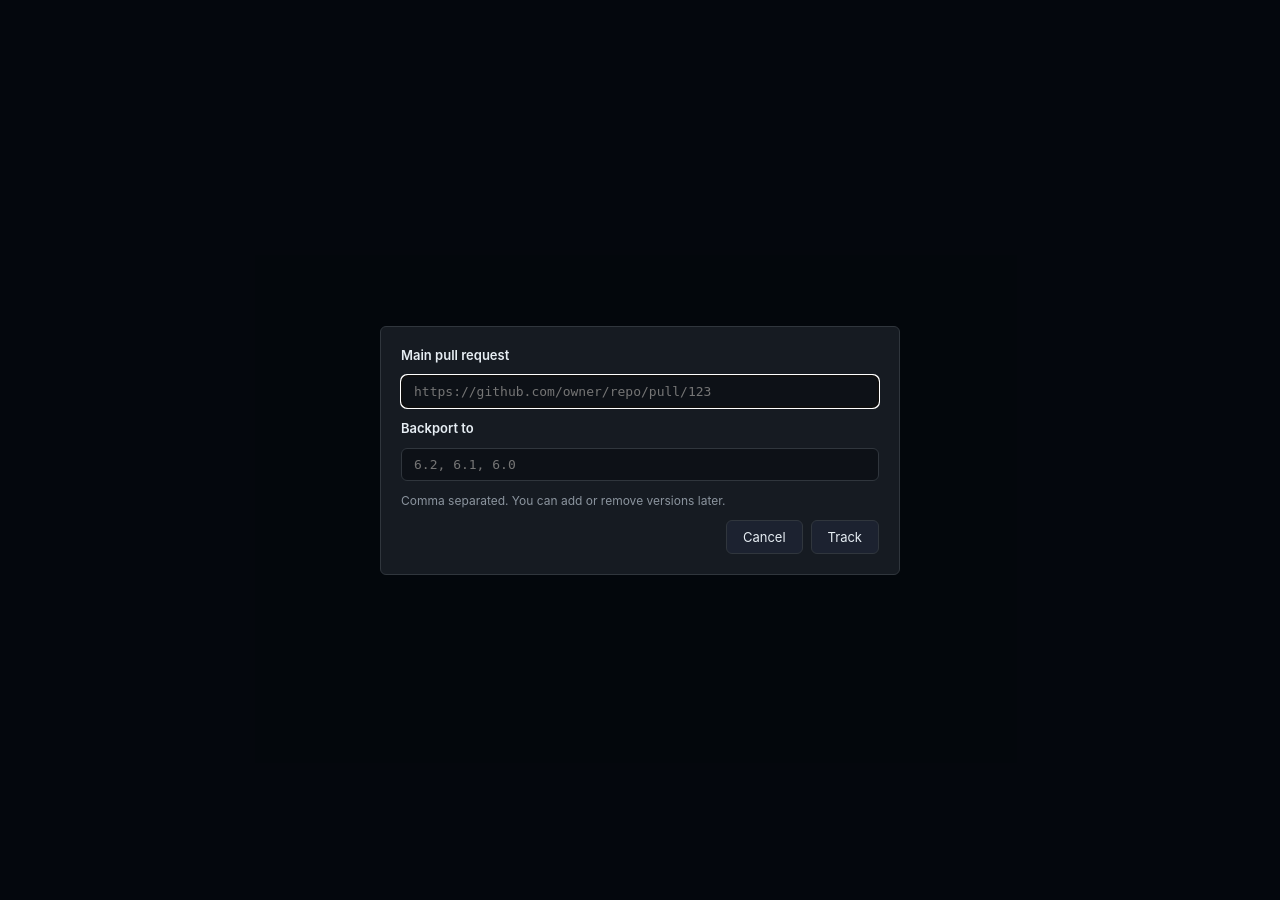
AddBackportGroupDialog › shows the parser error and does not add, for an invalid main PR URL
Type "https://gitlab.com/a/b/pull/1" into the field labelled "Main pull request".
click(640, 391); type("https://gitlab.com/a/b/pull/1")  # box x1=401 y1=374 x2=879 y2=408
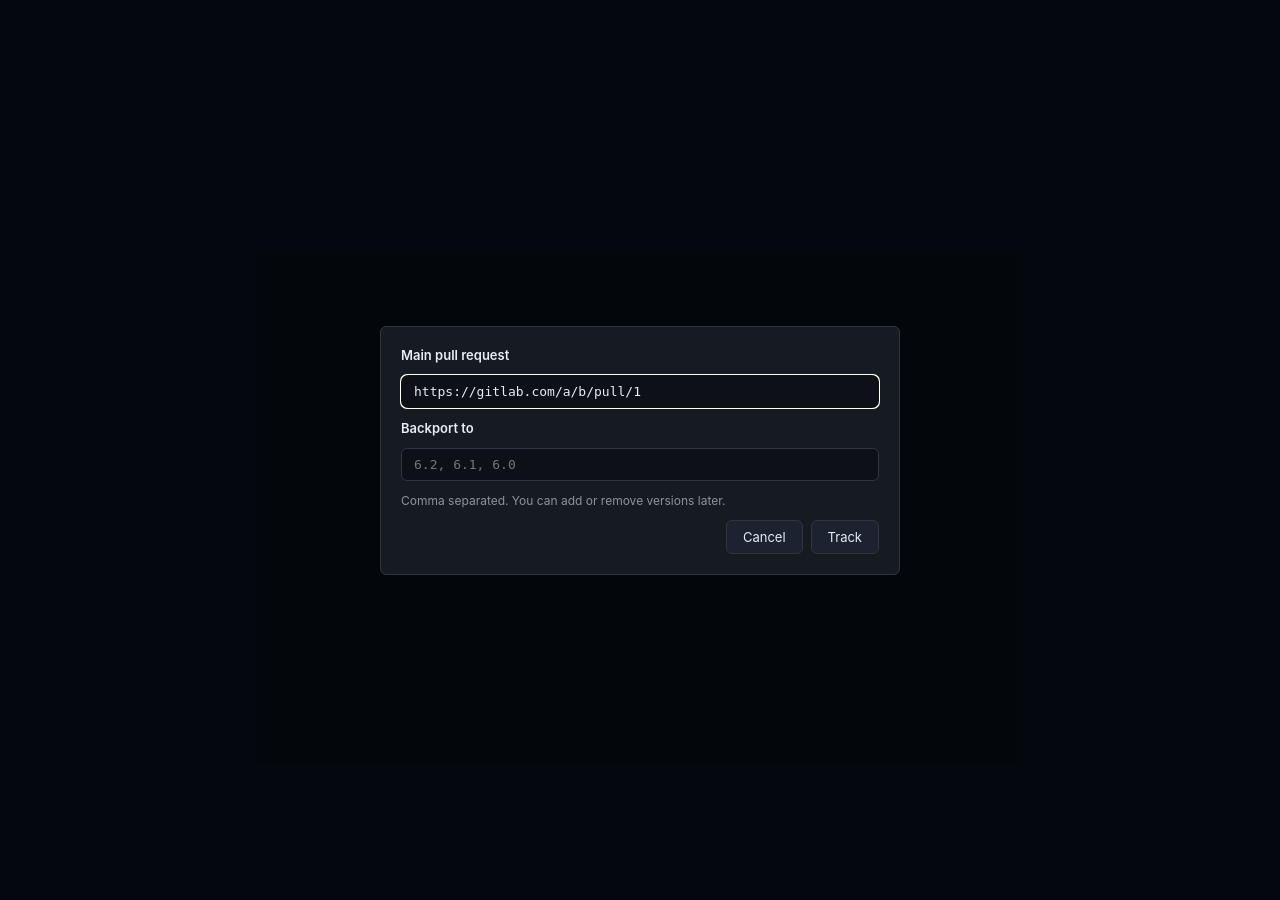
Click the button "Track".
click(845, 536)  # box x1=811 y1=520 x2=879 y2=554
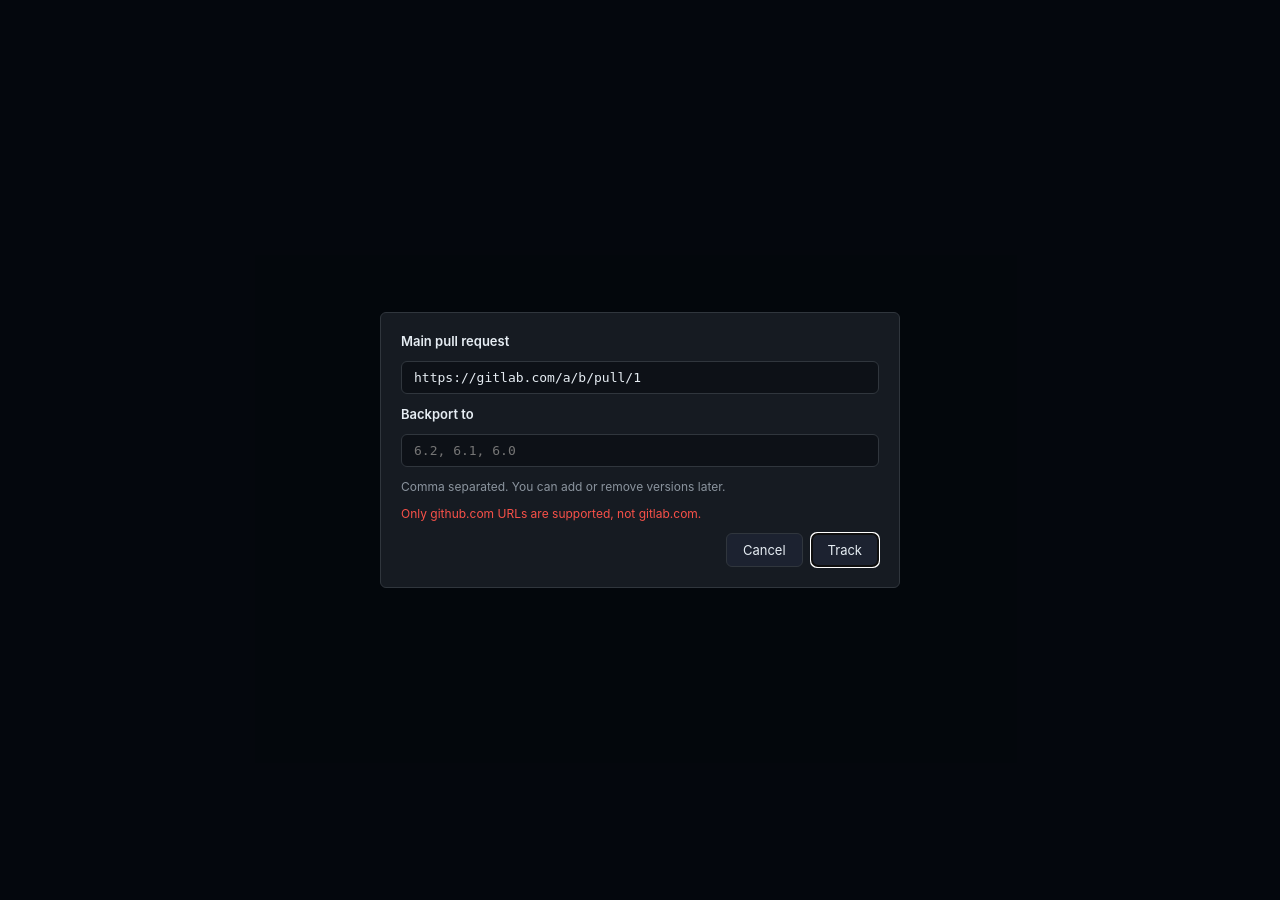
expect the message shows "github.com": met, box x1=401 y1=506 x2=701 y2=521
